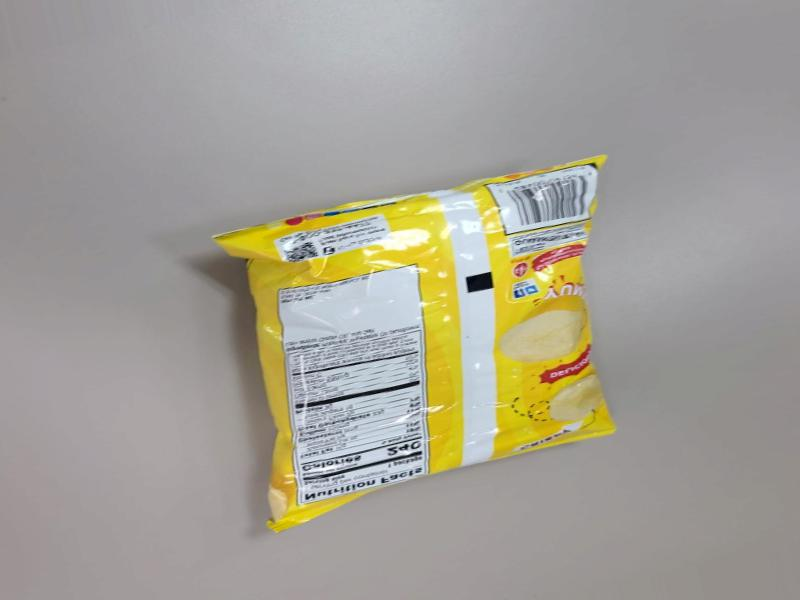lays: (223, 138, 625, 548)
